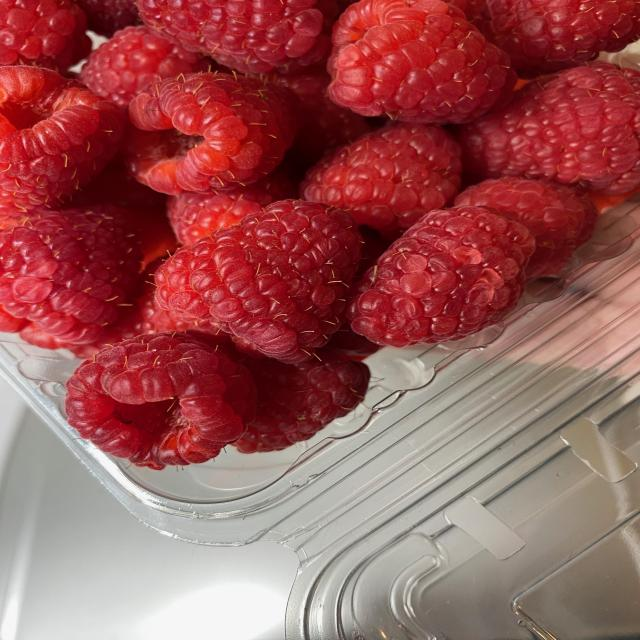Raspberry: (7, 6, 633, 450)
